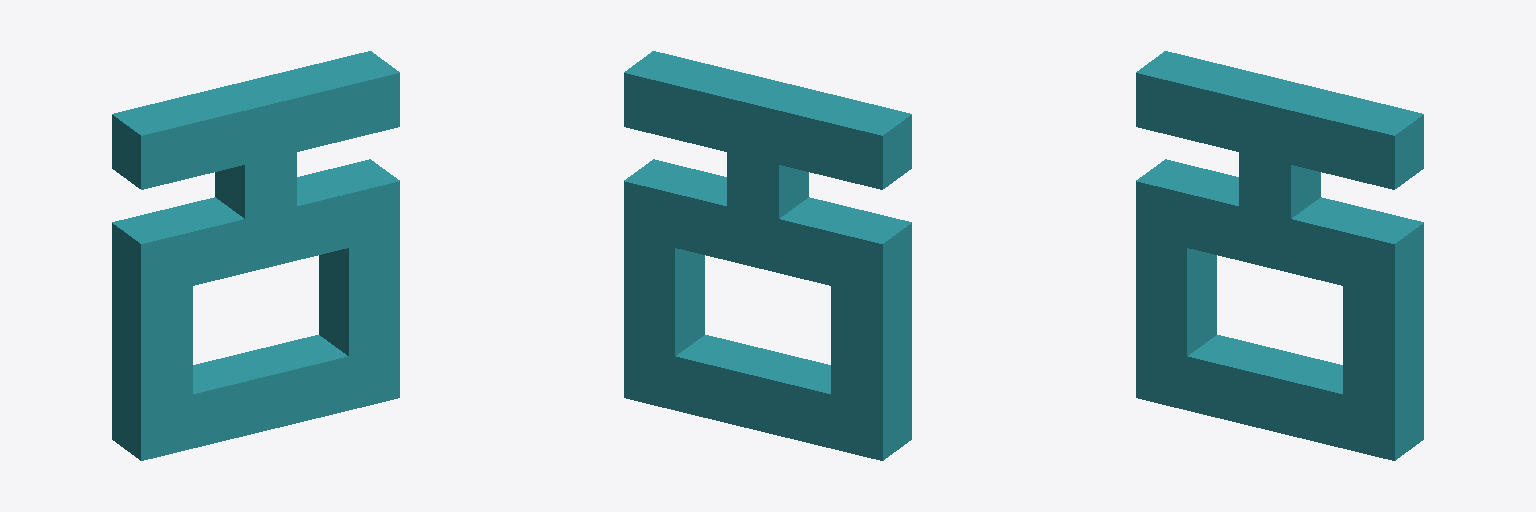
The picture shows the model from 3 angles: view 1: azimuth 30°, elevation 25°; view 2: azimuth 150°, elevation 25°; view 3: azimuth 330°, elevation 25°; orthographic projection.
Parts seen in each view (by area): view 1: object 1; view 2: object 1; view 3: object 1.
Boxes of the visible parts, x1,y1,x2,y2 form: object 1: [112, 51, 399, 460]; object 1: [624, 51, 911, 460]; object 1: [1136, 51, 1423, 460].
Size of the model in its own units: 0.5 by 0.6 by 0.1.
Materials: 1 (1 with a texture image).